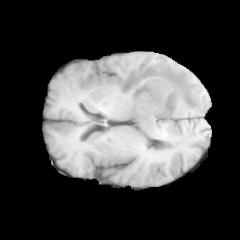glioma: (120, 62, 201, 139)
